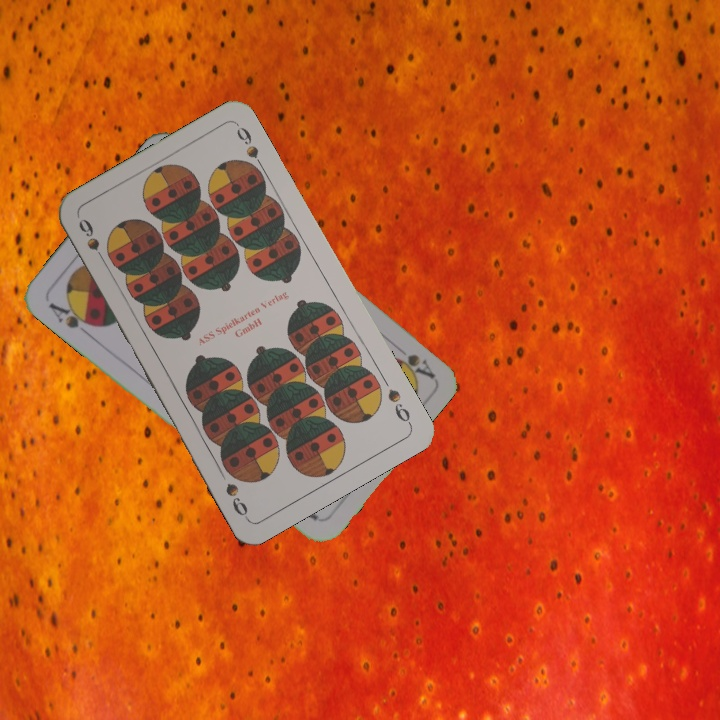S9: (74, 214, 110, 268), (383, 384, 414, 428)
SA: (44, 298, 99, 340), (388, 350, 437, 381)
